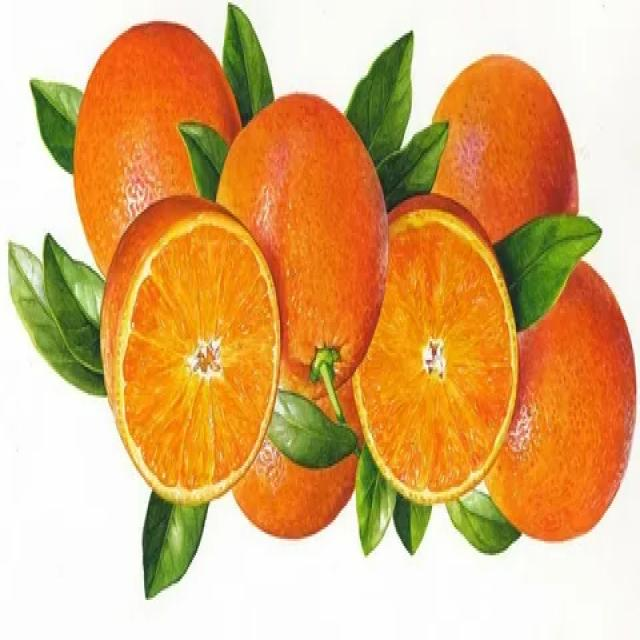orange: (96, 197, 286, 513), (487, 257, 640, 549)
